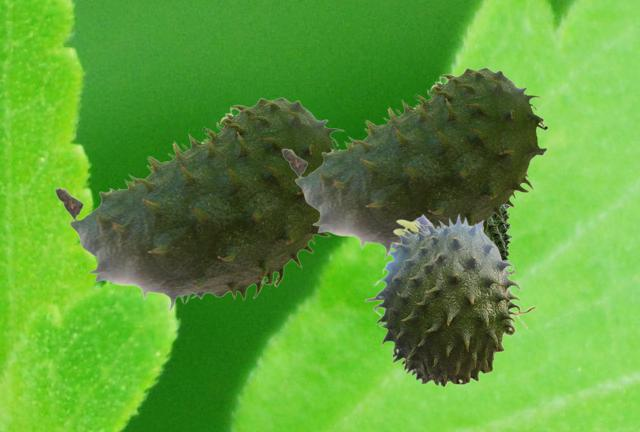guyabano: (54, 97, 345, 311), (281, 67, 547, 259), (364, 212, 536, 387), (486, 205, 512, 261)
